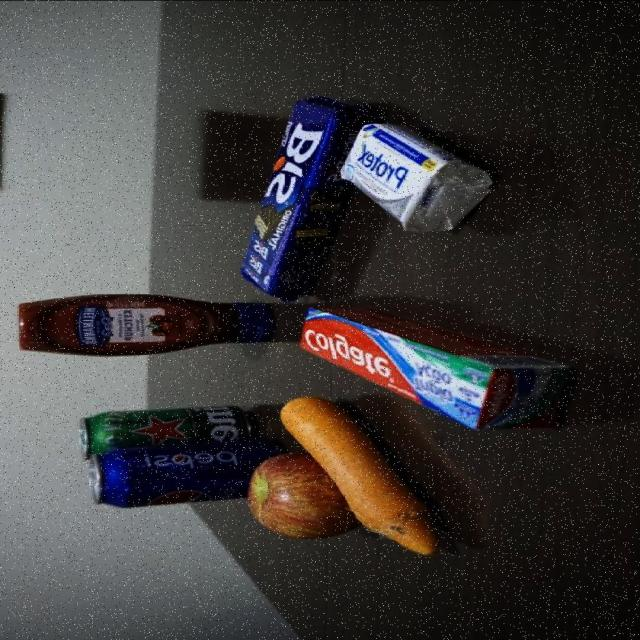Apple: (251, 458, 343, 546)
BeerCan: (83, 405, 252, 444)
Carrot: (326, 437, 466, 559)
Ketchup: (14, 298, 279, 359)
Soap: (344, 119, 491, 235)
SodaCan: (87, 448, 245, 502)
Toothpaste: (298, 305, 577, 430)
